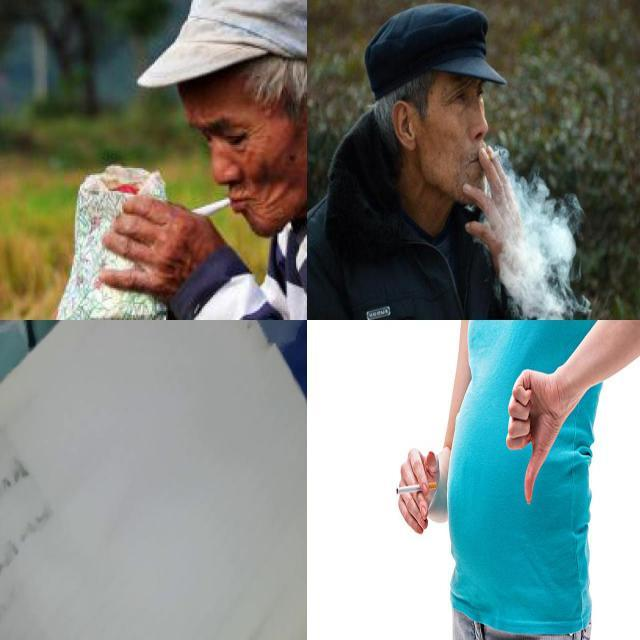cigarette: (178, 194, 244, 214), (396, 481, 438, 496), (478, 149, 506, 164)
